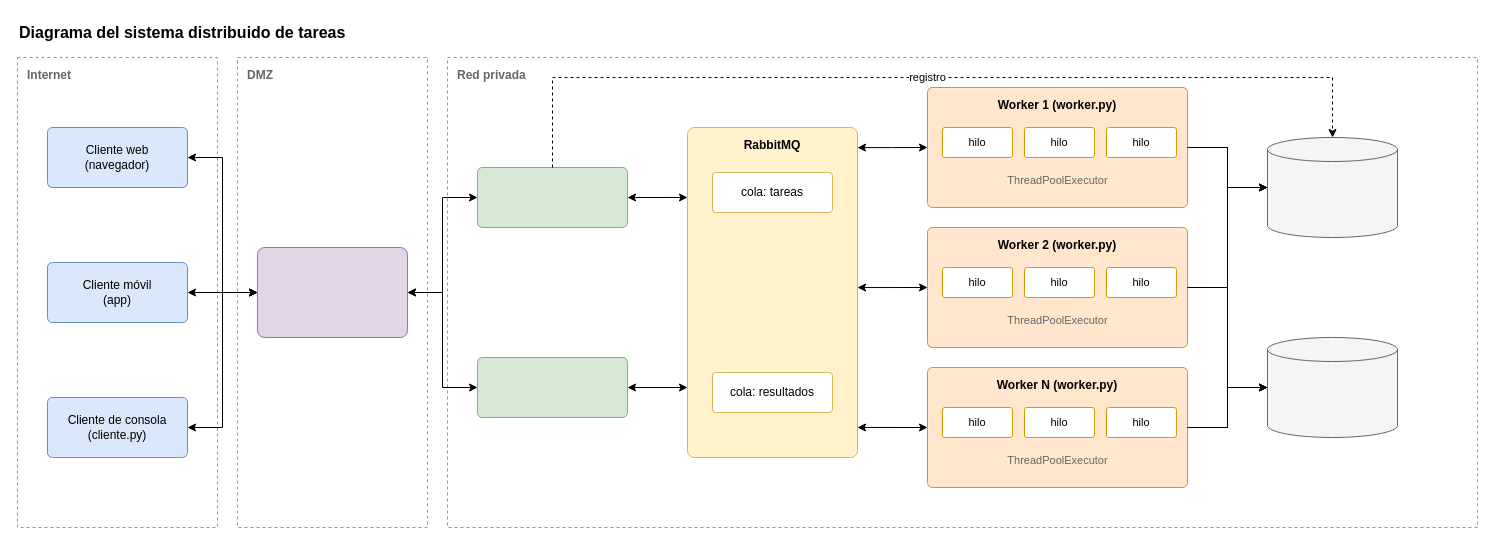
This 1495x545 diagram has some shape labels left out. Here are the shapes that lost their labels. From the top down, the centre of each, then its label:
[552,197]: Servidor de tareas 1 (servidor.py)
[1332,187]: PostgreSQL estado de tareas
[332,292]: Balanceador de carga Nginx / HAProxy TLS, puerto 443
[552,387]: Servidor de tareas 2 (servidor.py)
[1332,387]: Amazon S3 archivos y resultados
